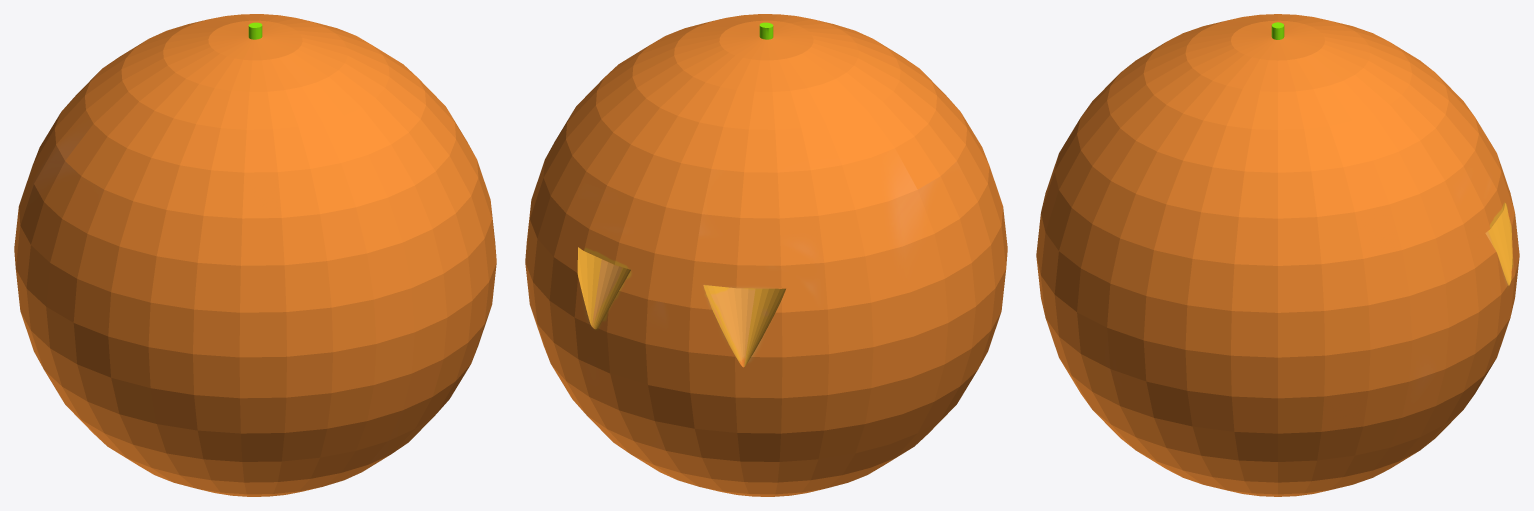
Rendered from correctpumpkin.fbx.
The picture shows the model from 3 angles, left to right: view 1: azimuth 30°, elevation 25°; view 2: azimuth 150°, elevation 25°; view 3: azimuth 270°, elevation 25°; orthographic projection.
Parts seen in each view (by area): view 1: Sphere; view 2: Sphere; view 3: Sphere.
Part boxes in pixels (x1,y1,x2,y2): Sphere: (14,14,496,496); Sphere: (525,14,1007,496); Sphere: (1036,14,1519,496).
Size of the model in its own units: 200 by 205 by 200.
Materials: 2 (2 with a texture image).
